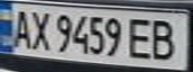4: (69, 11, 90, 55)
5: (87, 14, 109, 56)
9: (103, 14, 127, 57), (51, 10, 72, 53)
A: (6, 6, 33, 49)
B: (145, 16, 187, 62)
E: (124, 15, 157, 61)
X: (27, 7, 54, 52)
